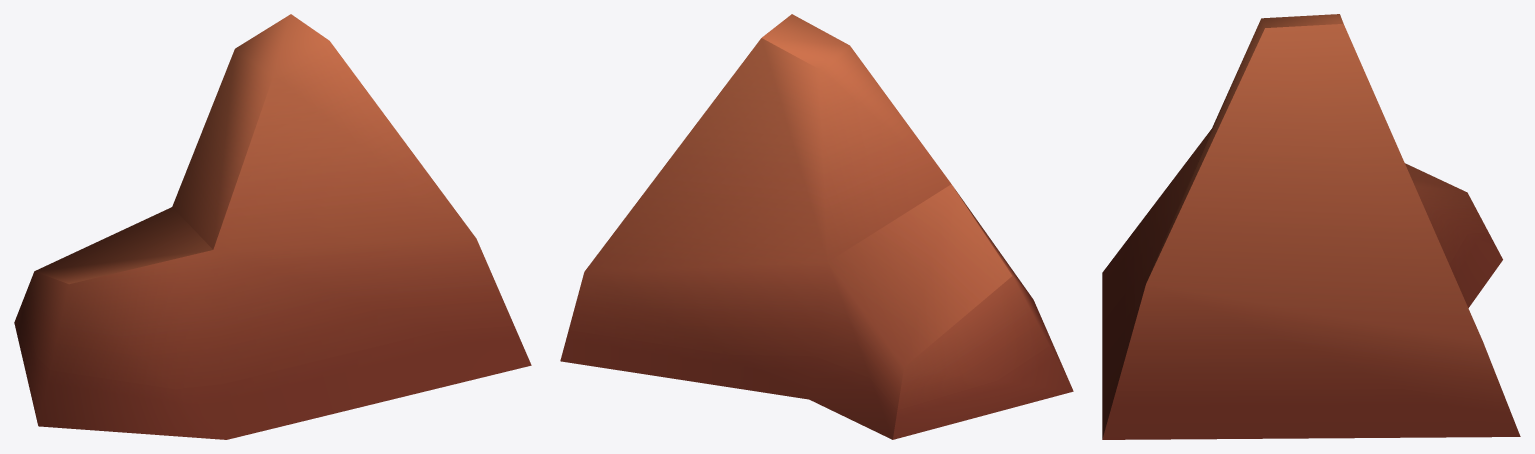
Rendered from rock.001.fbx.
The picture shows the model from 3 angles, left to right: view 1: azimuth 30°, elevation 25°; view 2: azimuth 150°, elevation 25°; view 3: azimuth 270°, elevation 25°; orthographic projection. The views are drawn at different scales.
Parts seen in each view (by area): view 1: rock.001; view 2: rock.001; view 3: rock.001.
Boxes of the visible parts, x1,y1,x2,y2 form: rock.001: (14, 14, 531, 439); rock.001: (560, 14, 1073, 439); rock.001: (1102, 14, 1520, 439).
Bounding box in the file's own units: 2.31 × 1.67 × 1.78.
